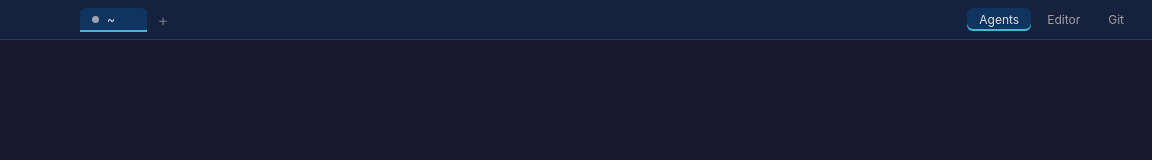
Test case: TopBar — Multi-Project Tabs › "+" button › shows dropdown with "Open folder..." on click
Click the button "+" at (163, 20), box left=151, top=8, right=175, bottom=32
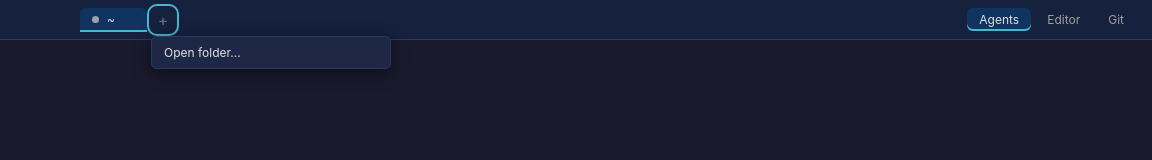
expect the button "Open folder…" is shown: met, box left=152, top=40, right=390, bottom=64
